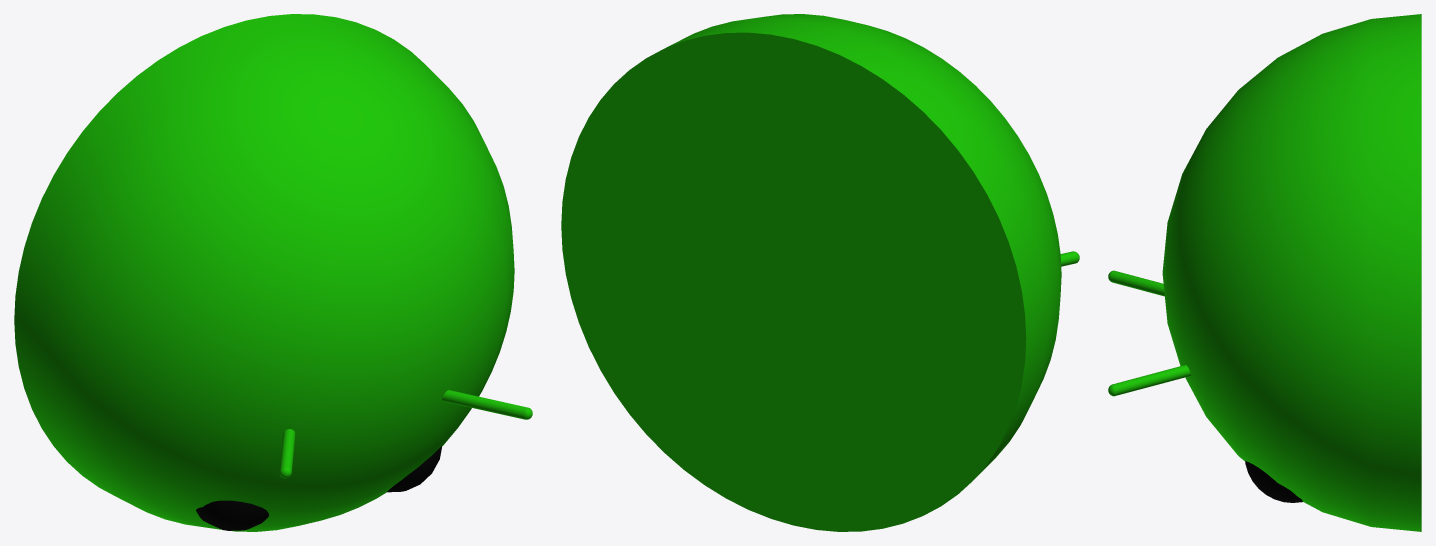
File: Androidhead_head.fbx
3 renders of one model, left to right at view 1: azimuth 30°, elevation 25°; view 2: azimuth 150°, elevation 25°; view 3: azimuth 270°, elevation 25°, orthographic. The views are drawn at different scales.
Visible parts, largest first — view 1: Androidhead; view 2: Androidhead; view 3: Androidhead.
Part boxes in pixels (x1,y1,x2,y2): Androidhead: (14,14,532,531); Androidhead: (561,14,1079,531); Androidhead: (1108,14,1421,531).
Bounding box in the file's own units: 2 × 2 × 1.21.
1 material, 1 textured.
